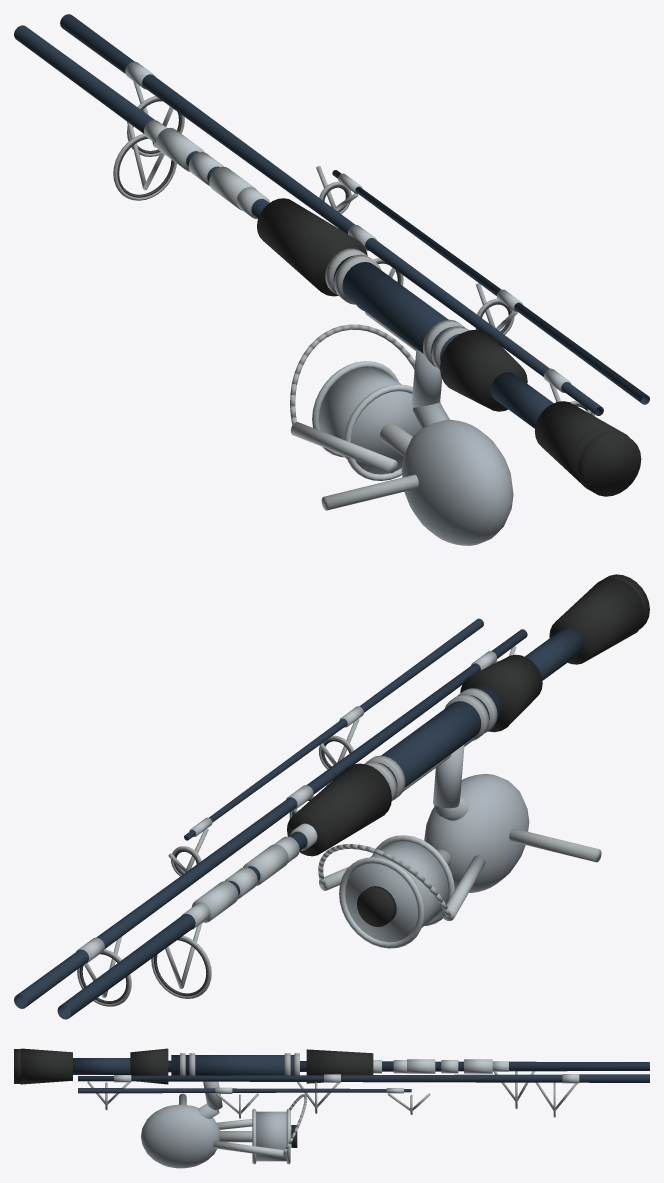
The model's file is reed_feeder_folded.glb.
The picture shows the model from 3 angles, top to bottom: view 1: azimuth 30°, elevation 25°; view 2: azimuth 150°, elevation 25°; view 3: azimuth 270°, elevation 25°; orthographic projection. The views are drawn at different scales.
Visible parts, largest first — view 1: Folded rod; view 2: Folded rod; view 3: Folded rod.
Boxes of the visible parts, x1=… form: Folded rod: x1=14, y1=14, x2=649, y2=545; Folded rod: x1=14, y1=574, x2=649, y2=1019; Folded rod: x1=14, y1=1048, x2=649, y2=1168.
Size of the model in its own units: 0.1577 by 0.1349 by 0.667.
